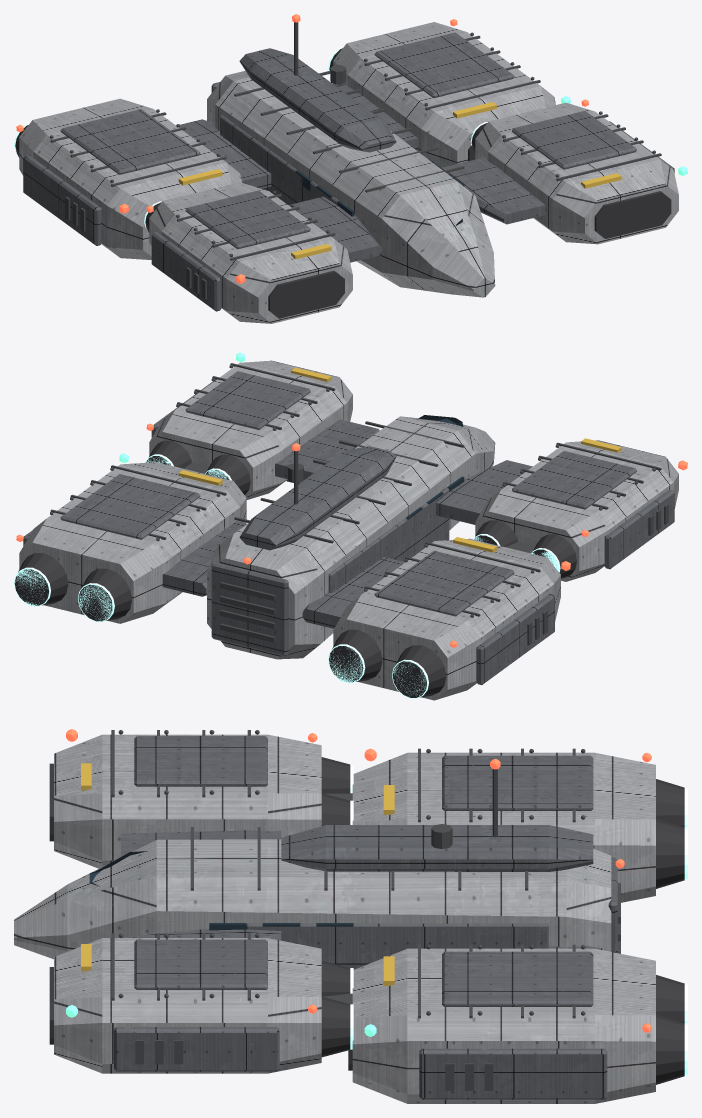
File: kestrel.glb
3 renders of one model, top to bottom at view 1: azimuth 30°, elevation 25°; view 2: azimuth 150°, elevation 25°; view 3: azimuth 270°, elevation 25°, orthographic. The views are drawn at different scales.
Visible parts, largest first — view 1: kestrel; view 2: kestrel; view 3: kestrel.
Part boxes in pixels (<box>): kestrel: <box>14,14,687,323</box>; kestrel: <box>14,352,687,700</box>; kestrel: <box>14,729,687,1103</box>.
Size of the model in its own units: 7.68 by 2.95 by 7.56.
Materials: 9 (2 with a texture image).
